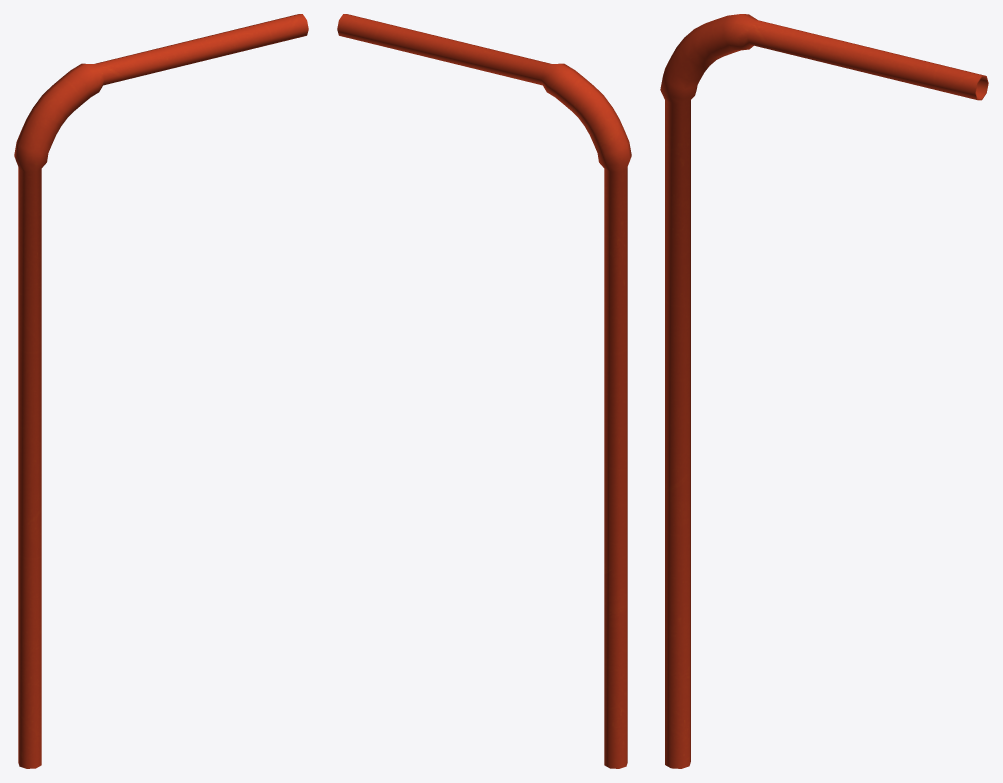
The model's file is wrong_3.glb.
The picture shows the model from 3 angles, left to right: view 1: azimuth 30°, elevation 25°; view 2: azimuth 150°, elevation 25°; view 3: azimuth 330°, elevation 25°; orthographic projection. The views are drawn at different scales.
Visible parts, largest first — view 1: DrinkingStraw4_DrinkingStraw_0; view 2: DrinkingStraw4_DrinkingStraw_0; view 3: DrinkingStraw4_DrinkingStraw_0.
Boxes of the visible parts, bbox=[...] form: DrinkingStraw4_DrinkingStraw_0: bbox=[14, 14, 308, 768]; DrinkingStraw4_DrinkingStraw_0: bbox=[337, 14, 631, 768]; DrinkingStraw4_DrinkingStraw_0: bbox=[660, 14, 988, 768].
Size of the model in its own units: 0.0825 by 0.1887 by 0.00851.
Materials: 1 (1 with a texture image).
